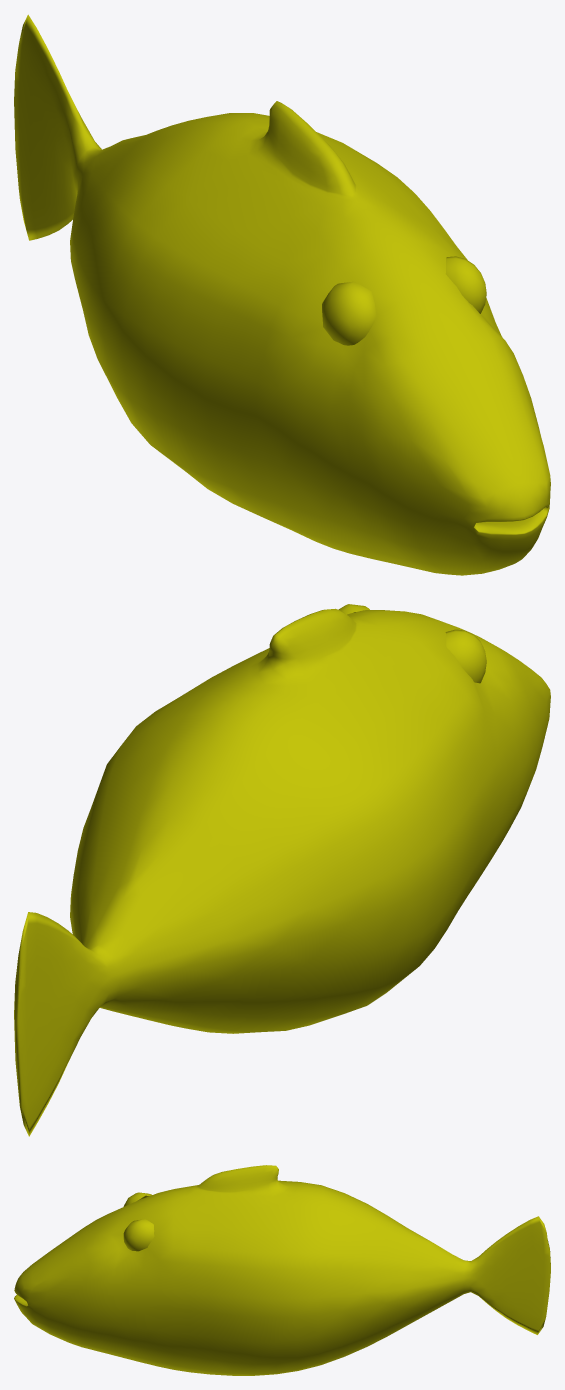
File: humu_01_rough.fbx
The picture shows the model from 3 angles, top to bottom: view 1: azimuth 30°, elevation 25°; view 2: azimuth 150°, elevation 25°; view 3: azimuth 270°, elevation 25°; orthographic projection. The views are drawn at different scales.
Parts seen in each view (by area): view 1: pSphere3; view 2: pSphere3; view 3: pSphere3.
Boxes of the visible parts, box(x1,y1,x2,y2) form: pSphere3: box(14, 14, 550, 575); pSphere3: box(14, 604, 550, 1136); pSphere3: box(14, 1165, 550, 1375).
Bounding box in the file's own units: 2.05 × 2.41 × 5.83.
